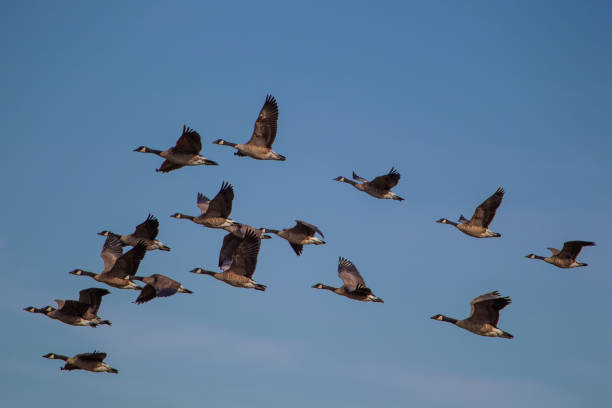goose: (185, 224, 270, 292), (210, 92, 288, 164), (423, 288, 516, 344), (131, 122, 220, 177), (20, 285, 113, 334), (65, 234, 142, 290), (433, 185, 508, 241), (310, 255, 389, 306), (168, 181, 240, 231), (95, 210, 170, 252), (333, 165, 408, 204), (257, 219, 328, 259), (40, 349, 122, 379), (523, 239, 597, 272), (125, 272, 192, 305)
